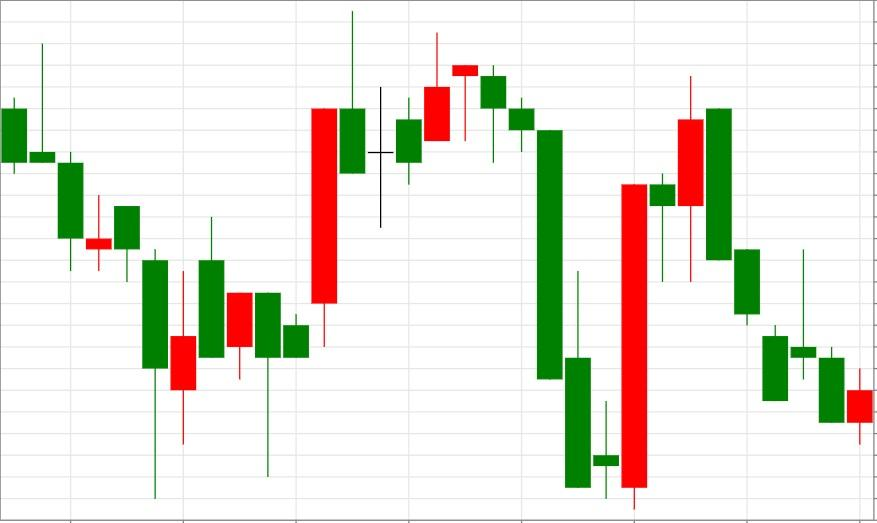three_black_crows_fall: (367, 32, 563, 381)
